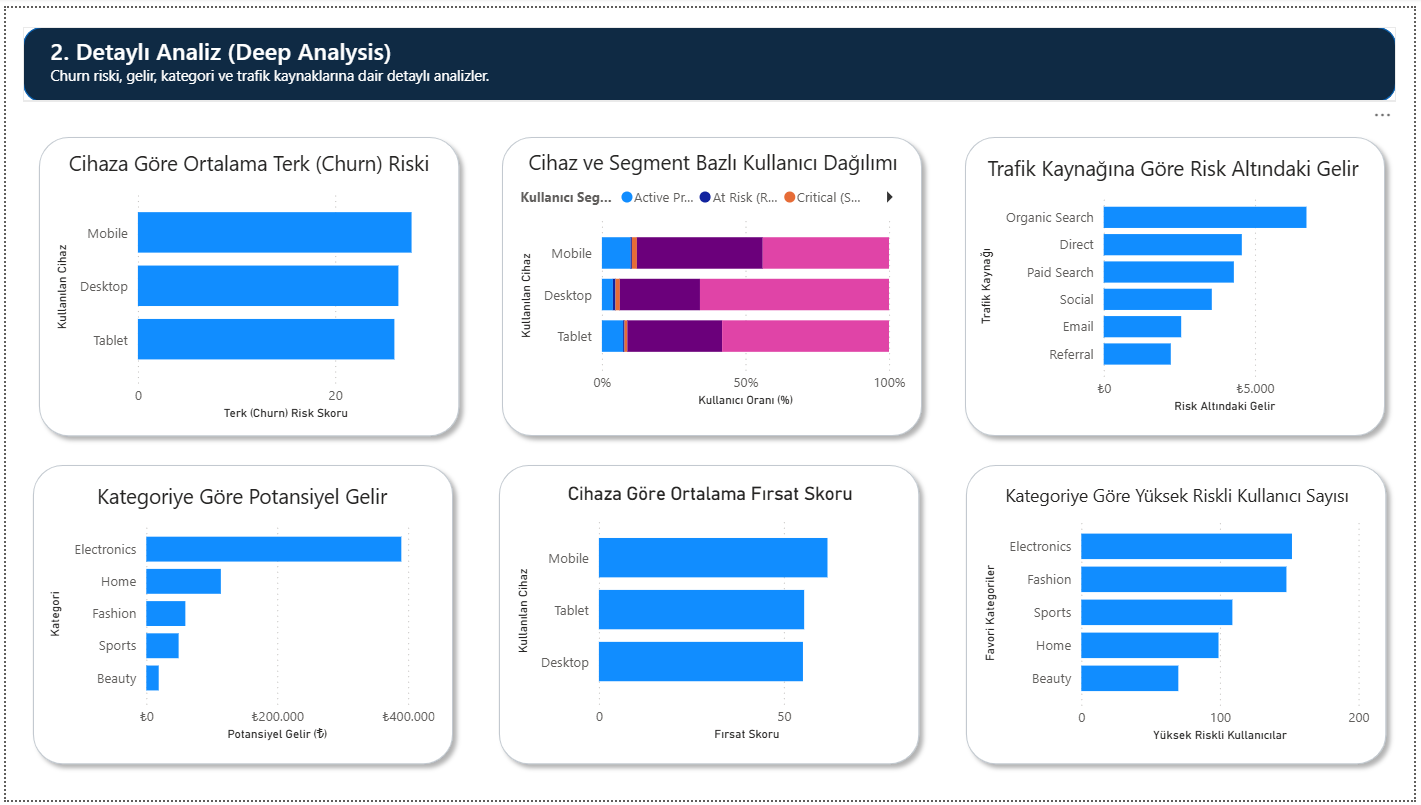

What the dashboard file says about the page in this screenshot:
{"tool":"powerbi","page":{"name":"Derin Analiz","canvas":[1280,720],"ordinal":1},"visuals":[{"type":"shape","box":[15.2,16.9,1248.4,68.1],"z":0,"group":"g6"},{"type":"shape","box":[441.7,108,400,290],"z":0,"group":"g4"},{"type":"shape","box":[862.6,108,400,290],"z":0,"group":"g3"},{"type":"shape","box":[20.5,108.4,400.3,290.1],"z":0,"group":"g5"},{"type":"group","id":"g1","title":"Grup 2","box":[15.2,406.5,400,290.1],"z":0},{"type":"shape","box":[15.2,406.5,400,290.1],"z":0,"group":"g1"},{"type":"shape","box":[439.2,406.5,400.3,290.1],"z":0,"group":"g2"},{"type":"shape","box":[863.4,406.5,400.3,290.1],"z":0,"group":"g7"},{"type":"textbox","box":[35.6,18.8,420,61.8],"z":1000,"group":"g6"},{"type":"hundredPercentStackedBarChart","title":"Cihaz ve Segment Bazlı Kullanıcı Dağılımı","fields":{"Category":["tbl_data.device"],"Series":["tbl_data.User Segment"],"Y":["CountNonNull(tbl_data.user_id)"]},"box":[462.4,127.2,360,240],"z":1000,"group":"g4"},{"type":"barChart","title":"Cihaza Göre Ortalama Terk (Churn) Riski","fields":{"Category":["tbl_data.device"],"Y":["Avg(tbl_data.Churn Risk Score)"]},"box":[40.2,128.1,360,250.7],"z":1000,"group":"g5"},{"type":"barChart","title":"Trafik Kaynağına Göre Risk Altındaki Gelir","fields":{"Category":["tbl_data.traffic_source"],"Y":["tbl_data.Revenue At Risk"]},"box":[880.4,132.5,360,240],"z":1000,"group":"g3"},{"type":"group","id":"g2","title":"Grup 3","box":[439.2,406.5,400.3,290.1],"z":1000},{"type":"barChart","title":"Kategoriye Göre Potansiyel Gelir","fields":{"Category":["tbl_data.favorite_category"],"Y":["tbl_data.Potential Revenue"]},"box":[33.9,430.7,360,240],"z":1000,"group":"g1"},{"type":"barChart","title":"Cihaza Göre Ortalama Fırsat Skoru","fields":{"Category":["tbl_data.device"],"Y":["Avg(tbl_data.opportunity_score_col)"]},"box":[459.8,430.7,360,240],"z":1000,"group":"g2"},{"type":"barChart","title":"Kategoriye Göre Yüksek Riskli Kullanıcı Sayısı","fields":{"Category":["tbl_data.favorite_category"],"Y":["tbl_data.High Risk Users"]},"box":[884,431.6,360,240],"z":1000,"group":"g7"},{"type":"group","id":"g3","title":"Grup 5","box":[862.6,108,400,290],"z":2000},{"type":"group","id":"g4","title":"Grup 6","box":[441.7,108,400,290],"z":3000},{"type":"group","id":"g5","title":"Grup 7","box":[20.5,108.4,400.3,290.1],"z":4000},{"type":"group","id":"g6","title":"Başlık","box":[15.2,16.9,1248.4,68.1],"z":5000},{"type":"group","id":"g7","title":"Grup 4","box":[863.4,406.5,400.3,290.1],"z":6000}]}

Visuals, with their boxes in screenshot pixels (x1, y1, x2, y2), scaled from the page's 1280x720 canvas onto the 1421x805 screenshot:
shape: l=17, t=19, r=1403, b=95
shape: l=490, t=121, r=934, b=445
shape: l=958, t=121, r=1402, b=445
shape: l=23, t=121, r=467, b=446
"Grup 2" group: l=17, t=454, r=461, b=779
shape: l=17, t=454, r=461, b=779
shape: l=488, t=454, r=932, b=779
shape: l=959, t=454, r=1403, b=779
textbox: l=40, t=21, r=506, b=90
"Cihaz ve Segment Bazlı Kullanıcı Dağılımı" hundredPercentStackedBarChart: l=513, t=142, r=913, b=411
"Cihaza Göre Ortalama Terk (Churn) Riski" barChart: l=45, t=143, r=444, b=424
"Trafik Kaynağına Göre Risk Altındaki Gelir" barChart: l=977, t=148, r=1377, b=416
"Grup 3" group: l=488, t=454, r=932, b=779
"Kategoriye Göre Potansiyel Gelir" barChart: l=38, t=482, r=437, b=750
"Cihaza Göre Ortalama Fırsat Skoru" barChart: l=510, t=482, r=910, b=750
"Kategoriye Göre Yüksek Riskli Kullanıcı Sayısı" barChart: l=981, t=483, r=1381, b=751
"Grup 5" group: l=958, t=121, r=1402, b=445
"Grup 6" group: l=490, t=121, r=934, b=445
"Grup 7" group: l=23, t=121, r=467, b=446
"Başlık" group: l=17, t=19, r=1403, b=95
"Grup 4" group: l=959, t=454, r=1403, b=779
